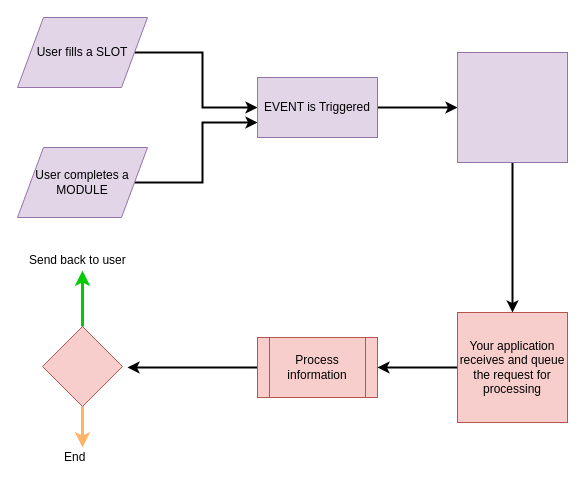
Image size: 585x485. Some labels were removed from this diagram. The shapes that lost their labels are listed below. From the top down, each one's centre as x and y in pixels, then its label:
At point 512,107: "TalkLift queues and send Asyncronous request to the provided Webhook URL".
At point 82,366: "Required feedback?".
